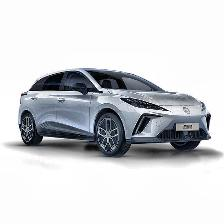EV: (18, 68, 213, 157)
